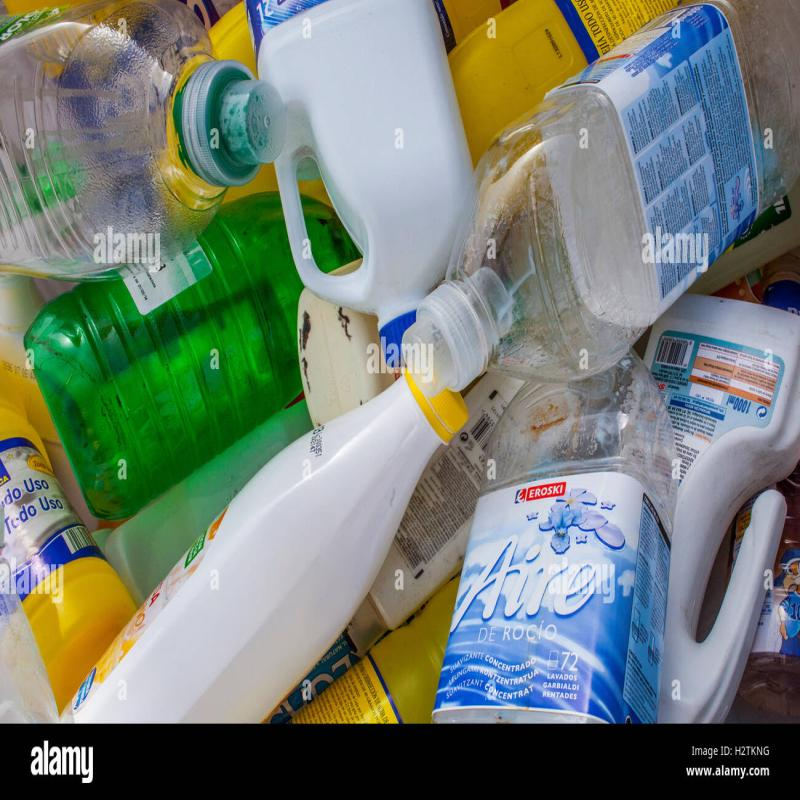botella: (392, 0, 800, 410), (15, 194, 366, 535), (433, 354, 689, 727), (5, 0, 281, 285)
